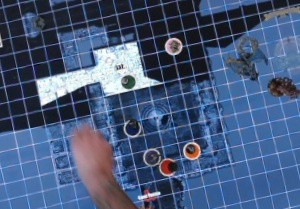blue: (117, 115, 147, 141)
green: (116, 71, 141, 94)
orange: (178, 137, 206, 163)
pink: (160, 32, 187, 58)
red: (155, 153, 179, 176)
violet: (138, 144, 162, 168)
